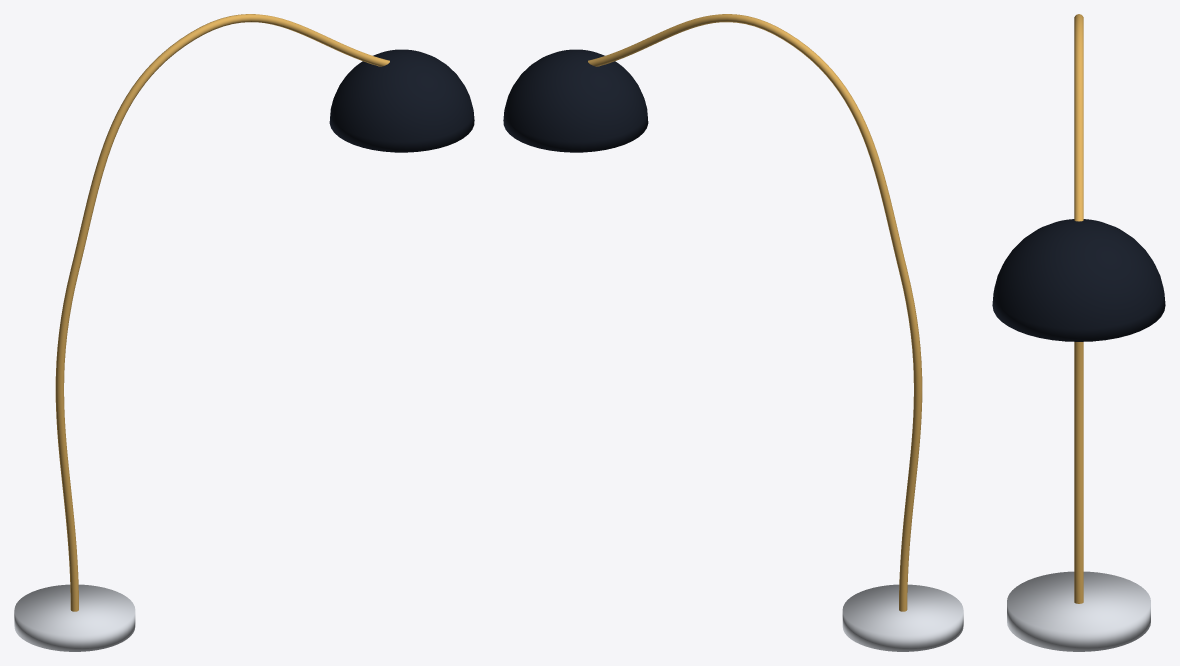
The model's file is lamp.glb.
The picture shows the model from 3 angles, left to right: view 1: azimuth 30°, elevation 25°; view 2: azimuth 150°, elevation 25°; view 3: azimuth 270°, elevation 25°; orthographic projection. The views are drawn at different scales.
Parts seen in each view (by area): view 1: lamp; view 2: lamp; view 3: lamp.
Boxes of the visible parts, <box> form: lamp: <box>14,14,474,651</box>; lamp: <box>503,14,963,651</box>; lamp: <box>992,14,1165,651</box>.
Size of the model in its own units: 1.69 by 2.09 by 0.48.
